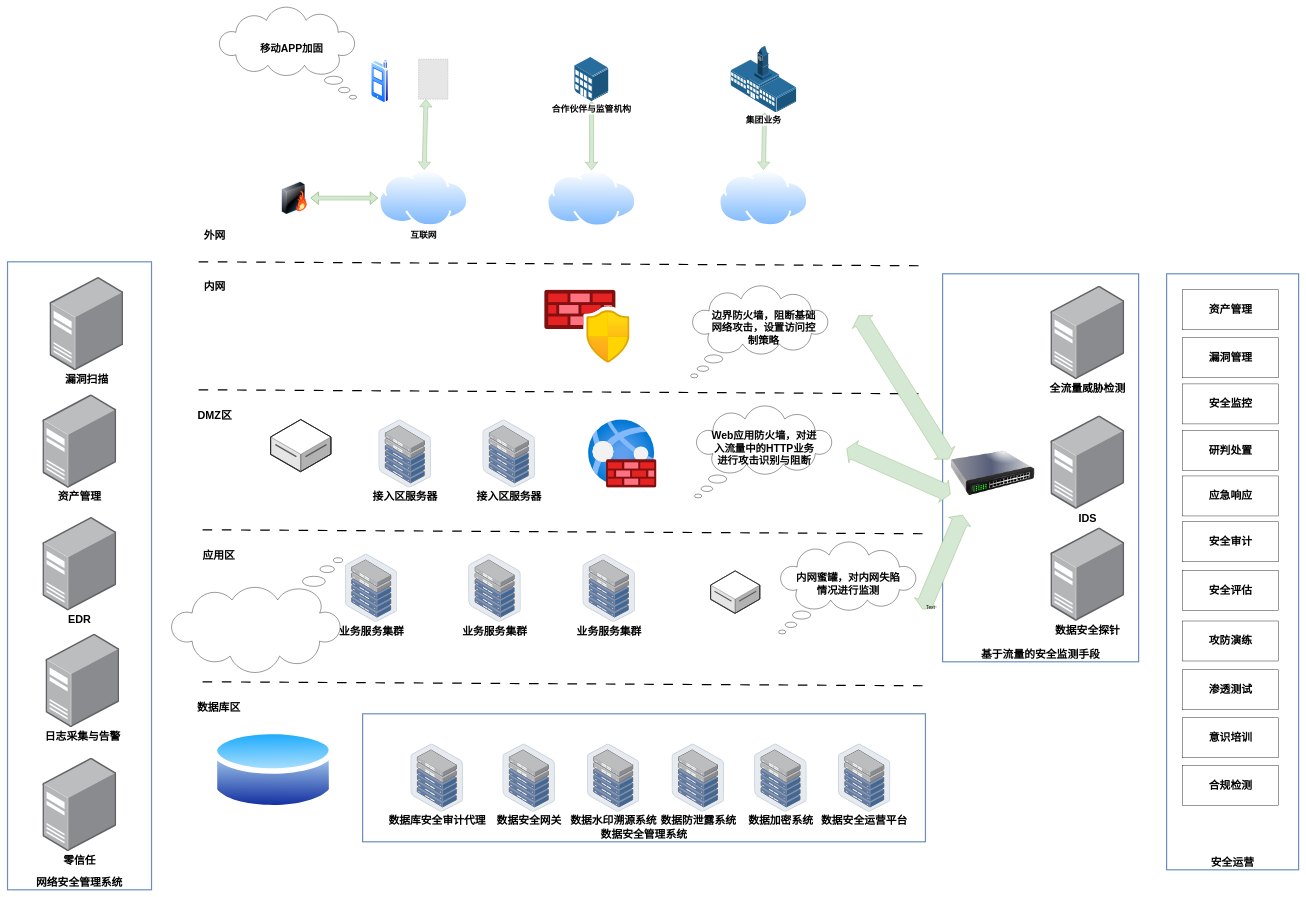
This 1306x897 diagram has some shape labels left out. Grey dashed boxes stand in for pictures. The shapes that lost their labels are listed below. From the top down, each one's centre as x and y in pixels, then its label:
At point (294, 198): "抗DDoS流量清洗服务".
At point (591, 198): "合作伙伴专线".
At point (763, 198): "集团DCN".
At point (587, 326): "边界防火墙".
At point (300, 445): "互联网蜜罐（待建设），威胁狩猎能力".
At point (622, 453): "WAF集群".
At point (992, 473): "流量镜像".
At point (735, 591): "内网蜜罐".
At point (256, 614): "主机EDR及容器安全管控，负责主机与容器的防病毒，失陷检测，基线检查，弱口令检查，补丁检查等".
At point (273, 769): "数据库".
